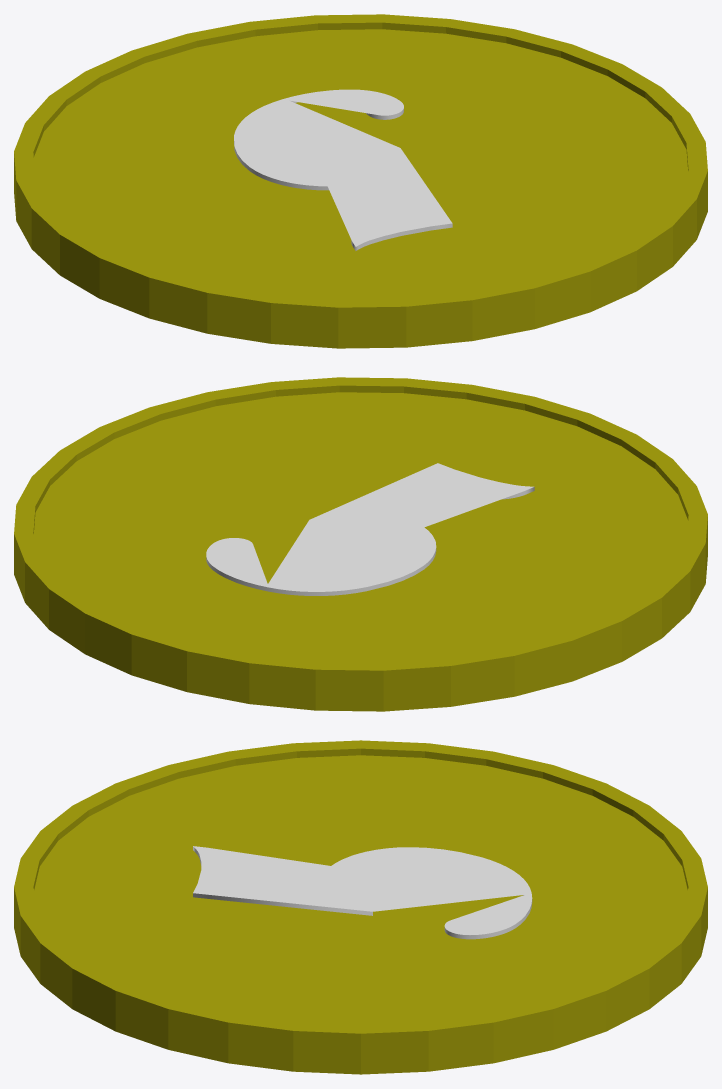
File: Singko.fbx
3 renders of one model, top to bottom at view 1: azimuth 30°, elevation 25°; view 2: azimuth 150°, elevation 25°; view 3: azimuth 270°, elevation 25°, orthographic.
Visible parts, largest first — view 1: Singko, Singko Text; view 2: Singko, Singko Text; view 3: Singko, Singko Text.
Boxes of the visible parts, <box> form: Singko: <box>14,14,707,348</box>; Singko Text: <box>234,89,452,250</box>; Singko: <box>14,377,707,711</box>; Singko Text: <box>206,463,534,595</box>; Singko: <box>14,740,707,1074</box>; Singko Text: <box>193,846,532,939</box>.
Bounding box in the file's own units: 2.56 × 0.1664 × 2.56.
